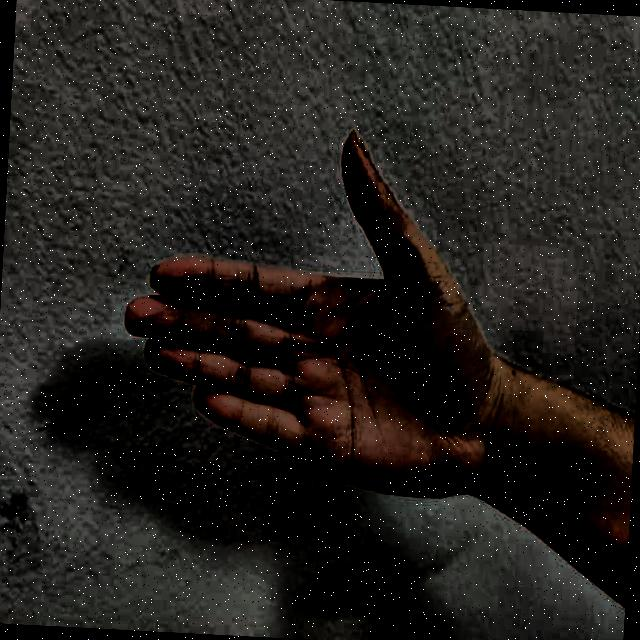Aa: (102, 87, 510, 553)
